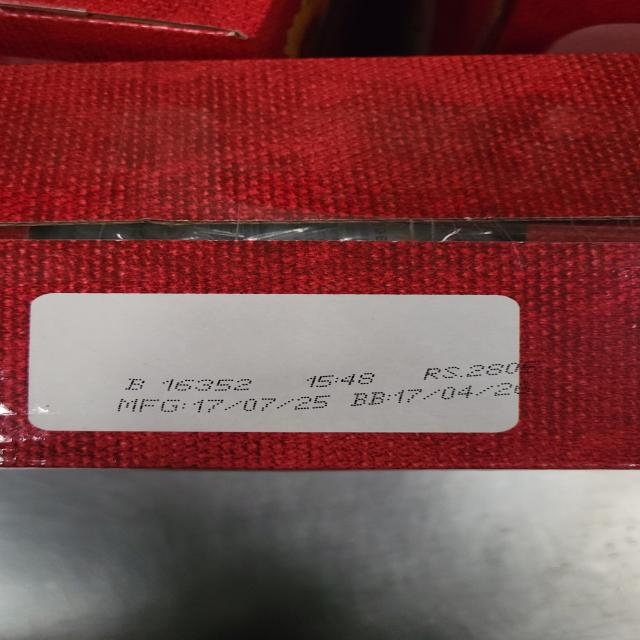BB: (353, 383, 522, 406)
Batch: (122, 378, 258, 392)
MFG: (118, 396, 329, 414)
RS: (423, 363, 530, 379)
TimeStamp: (304, 373, 378, 388)
